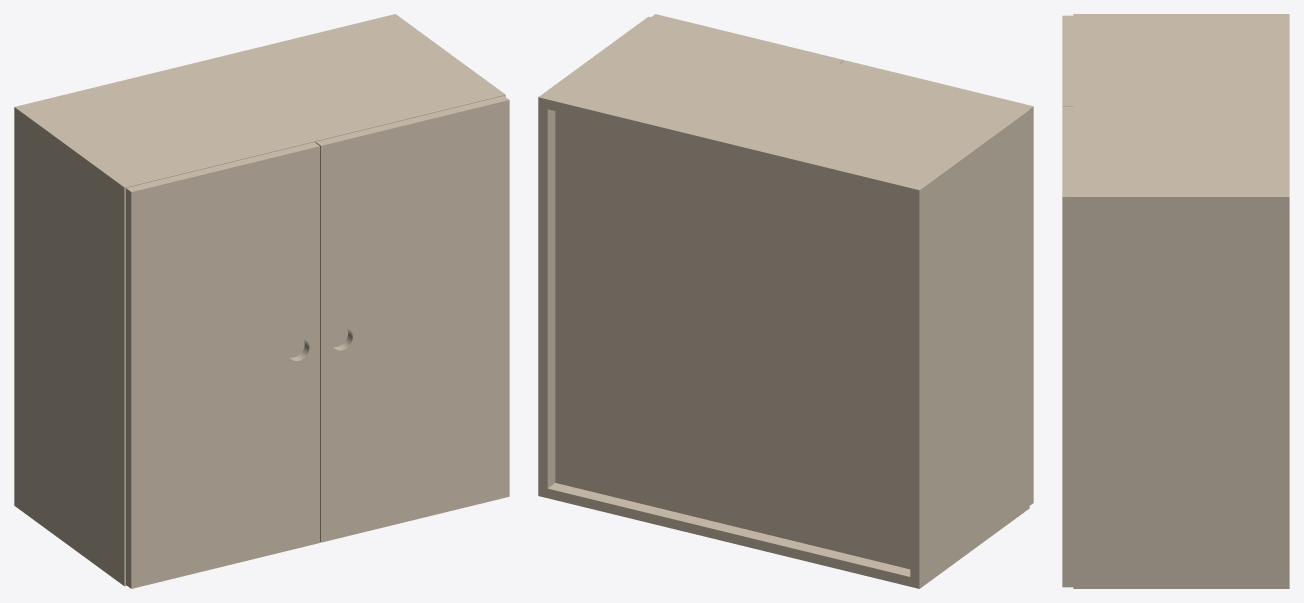
File: MOD-2X2-DD-B-AR.glb
3 renders of one model, left to right at view 1: azimuth 30°, elevation 25°; view 2: azimuth 150°, elevation 25°; view 3: azimuth 270°, elevation 25°, orthographic.
Bounding box in the file's own units: 720 × 720 × 378.
